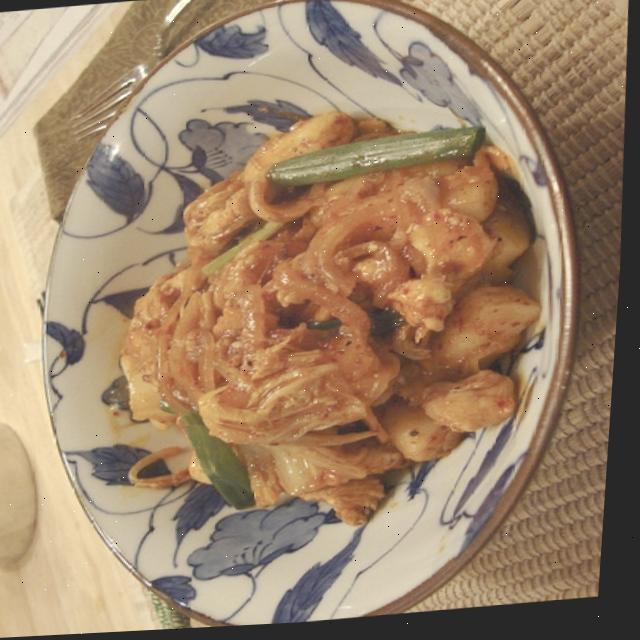鸡肉料理 含炸鸡: (0, 0, 619, 639)
